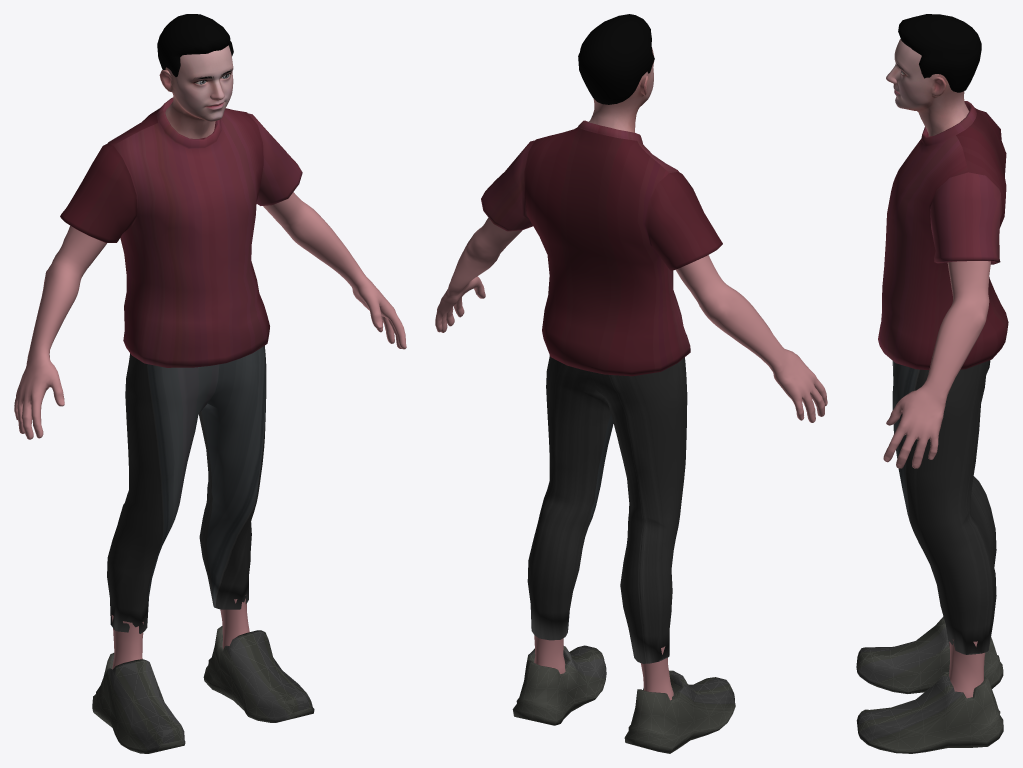
File: jumpingJack.fbx
3 renders of one model, left to right at view 1: azimuth 30°, elevation 25°; view 2: azimuth 150°, elevation 25°; view 3: azimuth 270°, elevation 25°, orthographic.
Visible parts, largest first — view 1: Wolf3D_Outfit_Top, Wolf3D_Outfit_Bottom, Wolf3D_Body, Wolf3D_Outfit_Footwear, Wolf3D_Head, Wolf3D_Hair; view 2: Wolf3D_Outfit_Top, Wolf3D_Outfit_Bottom, Wolf3D_Body, Wolf3D_Outfit_Footwear, Wolf3D_Hair, Wolf3D_Head; view 3: Wolf3D_Outfit_Top, Wolf3D_Outfit_Bottom, Wolf3D_Outfit_Footwear, Wolf3D_Body, Wolf3D_Hair, Wolf3D_Head.
Boxes of the visible parts, x1,y1,x2,y2 form: Wolf3D_Outfit_Top: (60,97,302,367); Wolf3D_Outfit_Bottom: (107,345,266,633); Wolf3D_Body: (14,192,406,669); Wolf3D_Outfit_Footwear: (92,625,314,753); Wolf3D_Head: (159,45,233,138); Wolf3D_Hair: (157,14,233,76); Wolf3D_Outfit_Top: (481,120,722,376); Wolf3D_Outfit_Bottom: (527,355,687,663); Wolf3D_Body: (435,218,827,700); Wolf3D_Outfit_Footwear: (512,645,735,753); Wolf3D_Hair: (578,14,654,104); Wolf3D_Head: (588,48,654,132); Wolf3D_Outfit_Top: (878,101,1008,369); Wolf3D_Outfit_Bottom: (892,360,996,654); Wolf3D_Outfit_Footwear: (856,616,1003,753); Wolf3D_Body: (883,261,990,698); Wolf3D_Hair: (898,14,981,92); Wolf3D_Head: (886,39,969,136).
Size of the model in its own units: 1.06 by 1.86 by 0.3695.
Materials: 8 (8 with a texture image).
